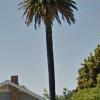Palm tree: (20, 0, 73, 87)
